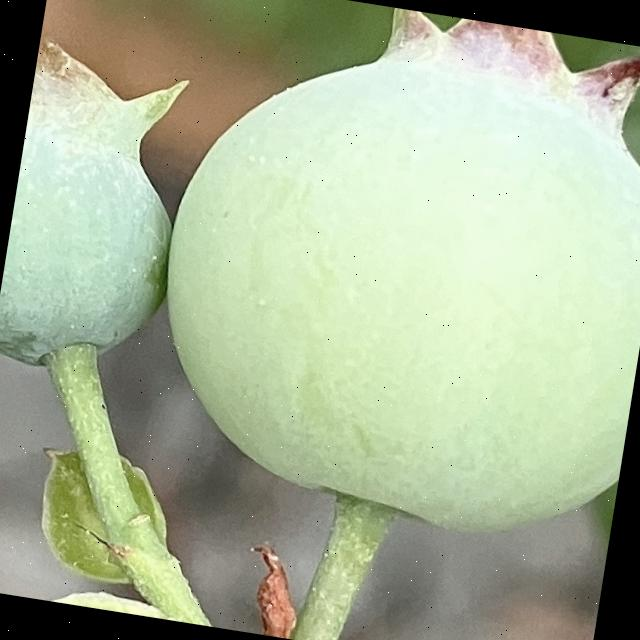Blueberries: (127, 0, 640, 556), (0, 35, 198, 384)
